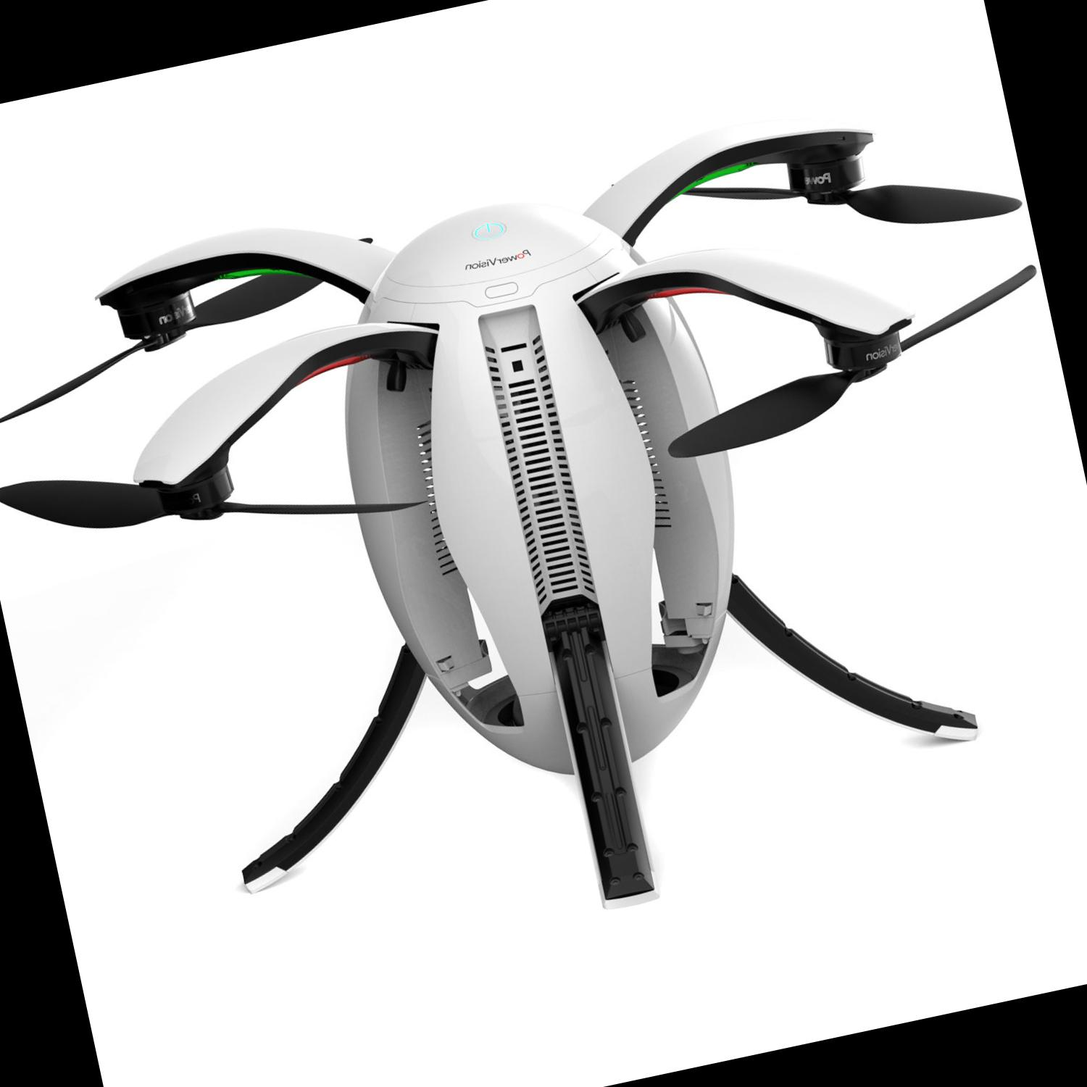drone: (0, 59, 1049, 615)
